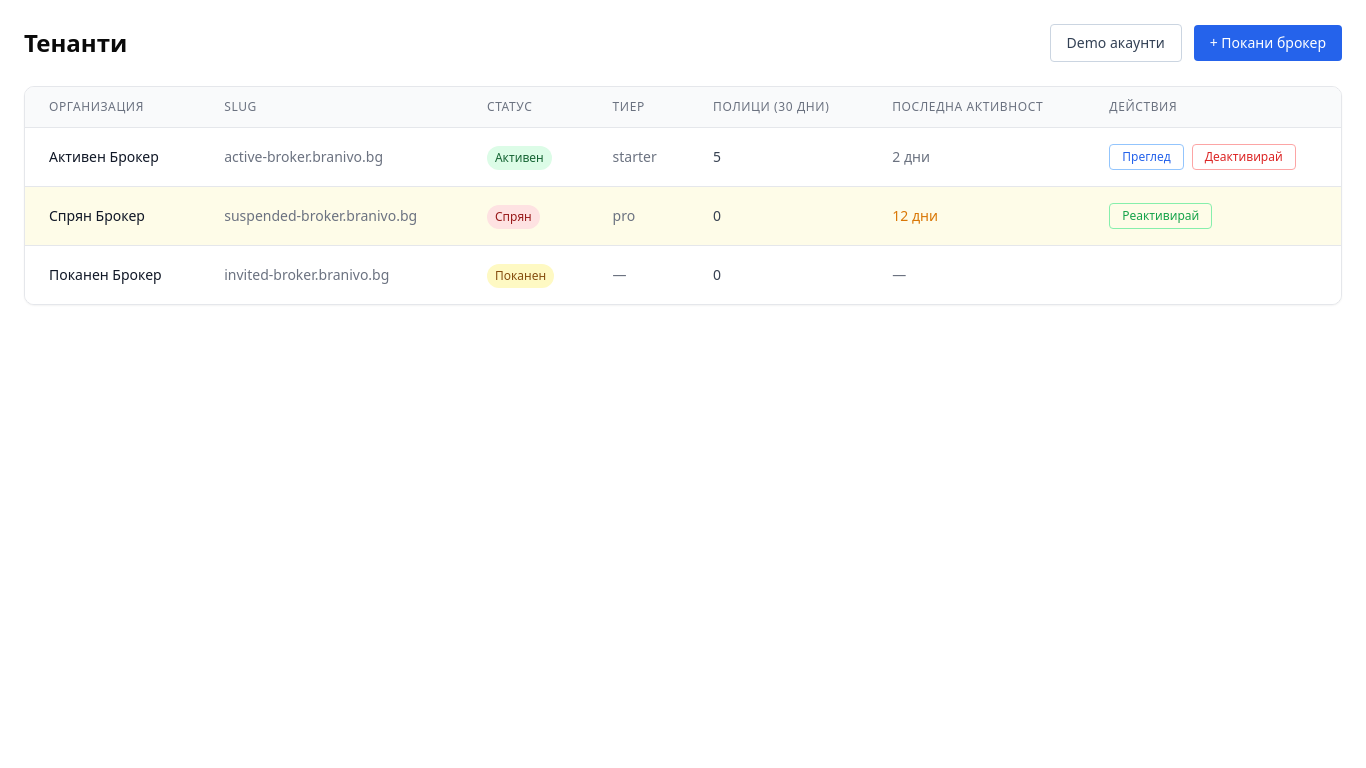
Test: AdminTenantsPage — ConfirmStatusModal › closes modal when clicking "Отказ"
Expected: the text "Активен Брокер" is shown, [49,147,176,167]
Click the button "Деактивирай".
click(1244, 157)  # box [1192,144,1296,170]
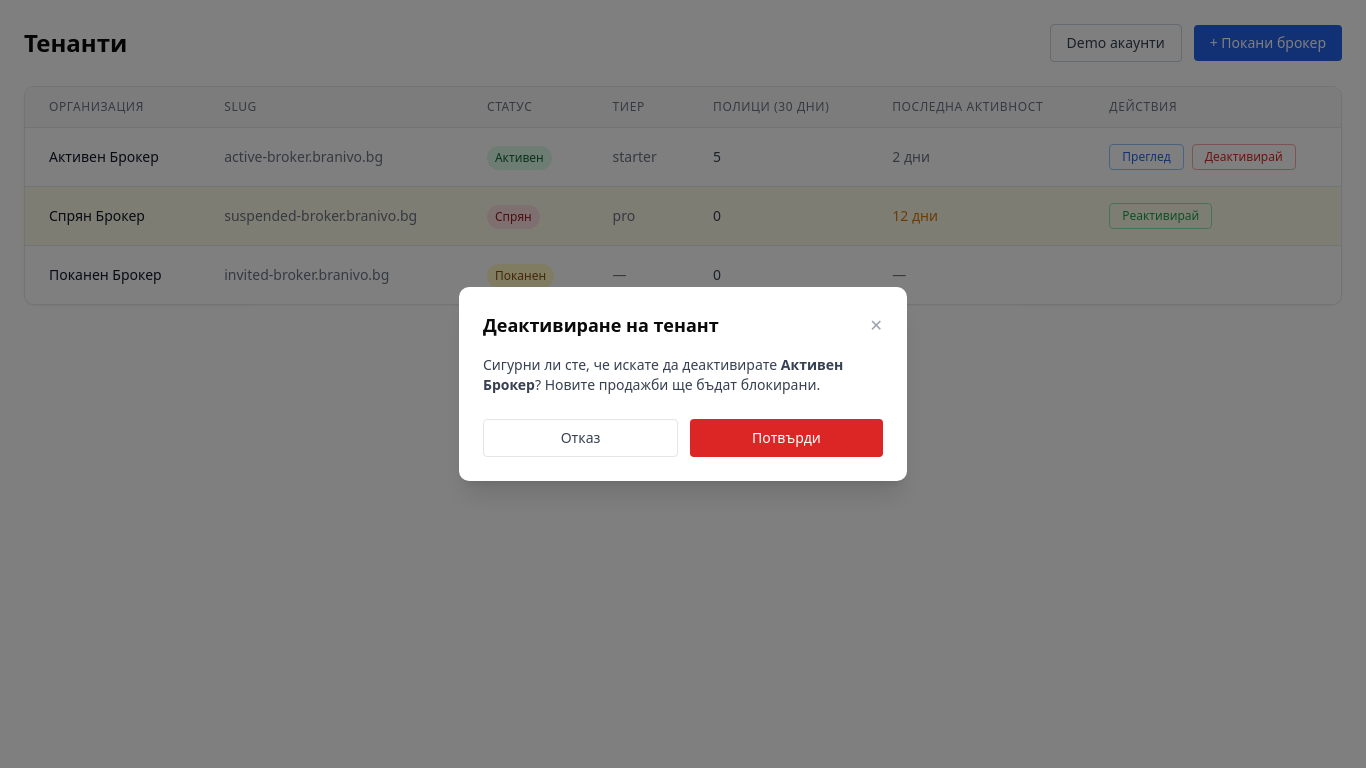
Now the heading "Деактивиране на тенант" is shown, box [483,311,719,339]
Click the button "Отказ".
click(580, 438)  # box [483,419,678,457]
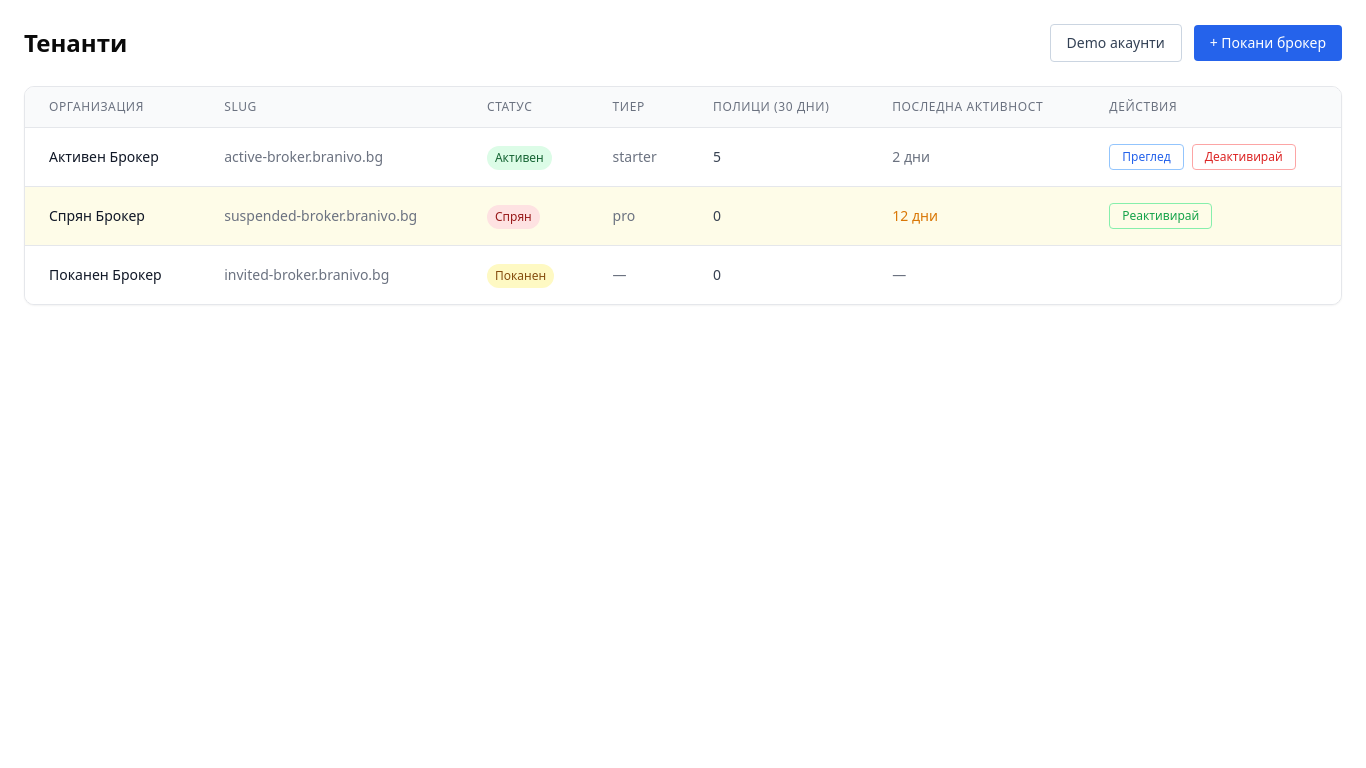
Now the heading "Деактивиране на тенант" is gone
